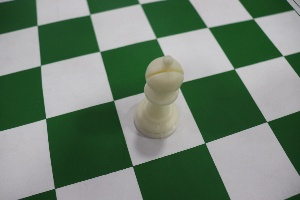white_bishop: (127, 35, 190, 155)
